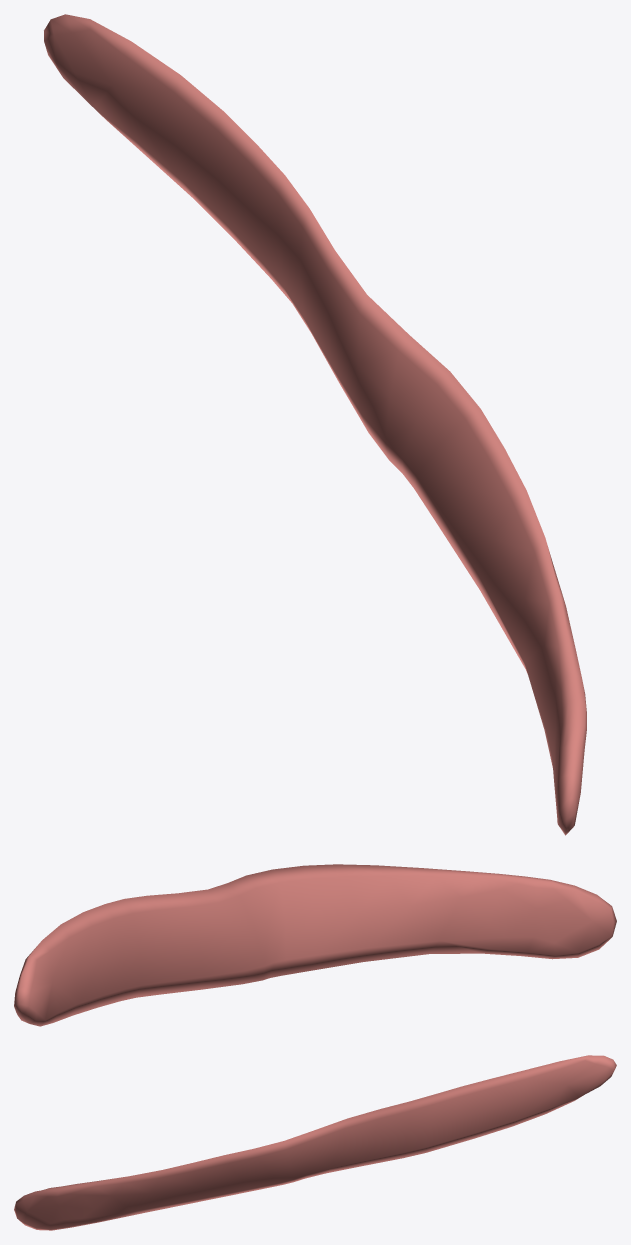
3 renders of one model, top to bottom at view 1: azimuth 30°, elevation 25°; view 2: azimuth 150°, elevation 25°; view 3: azimuth 270°, elevation 25°, orthographic. The views are drawn at different scales.
Visible parts, largest first — view 1: ZA_5a60e5ce3634f828; view 2: ZA_5a60e5ce3634f828; view 3: ZA_5a60e5ce3634f828.
Boxes of the visible parts, bbox=[...] form: ZA_5a60e5ce3634f828: bbox=[44, 14, 586, 835]; ZA_5a60e5ce3634f828: bbox=[14, 864, 616, 1026]; ZA_5a60e5ce3634f828: bbox=[14, 1055, 616, 1230].
Size of the model in its own units: 0.00335 by 0.00783 by 0.0222.
